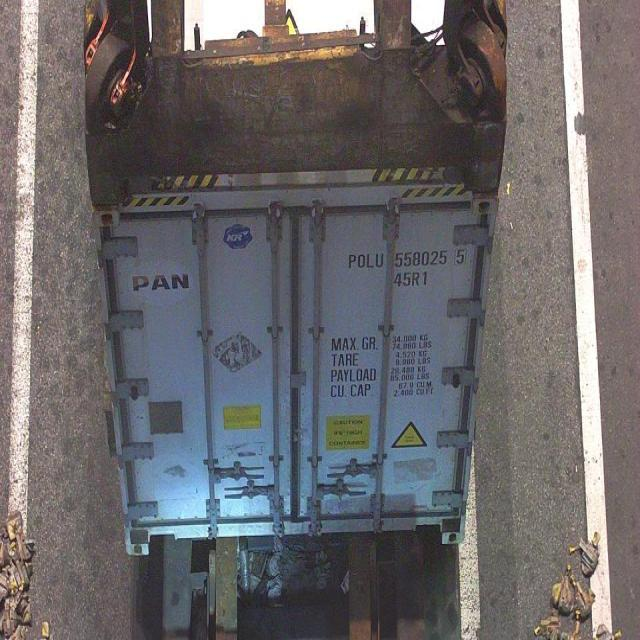ISO: (346, 250, 467, 270), (396, 272, 429, 288)
